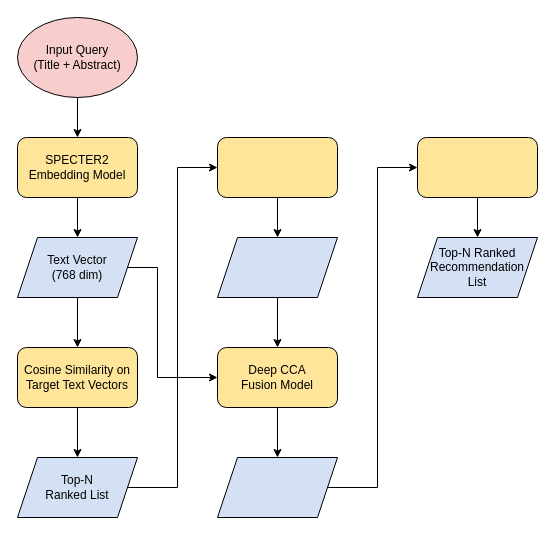
Some shapes in this 555 by 535 pixel diagram are drawn without their labels. Each missing label, with the centre of its shape:
"AVG(∑ Top-N Target Node2vec Vectors)" goes at (277,167).
"Cosine Similarity on Target Fused Vectors" goes at (477,167).
"Fused Vector (256 dim)" goes at (277,487).
"Node Vector (128 dim)" goes at (277,267).
